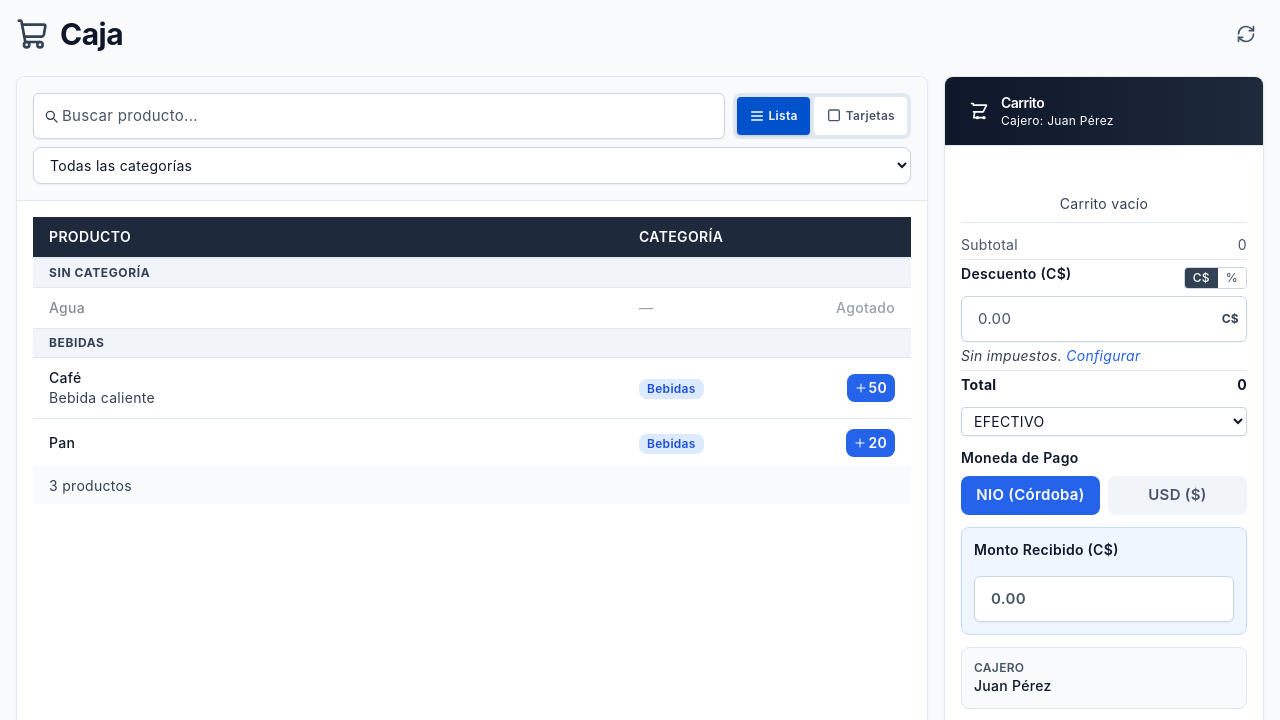
it: POSPage › Cart – adding products › increments quantity when the same product is added twice
The image size is (1280, 720).
Expected: the text "Café" is shown, [49,369,82,386]
Click the button "50".
click(871, 388)  # box [847,374,895,402]
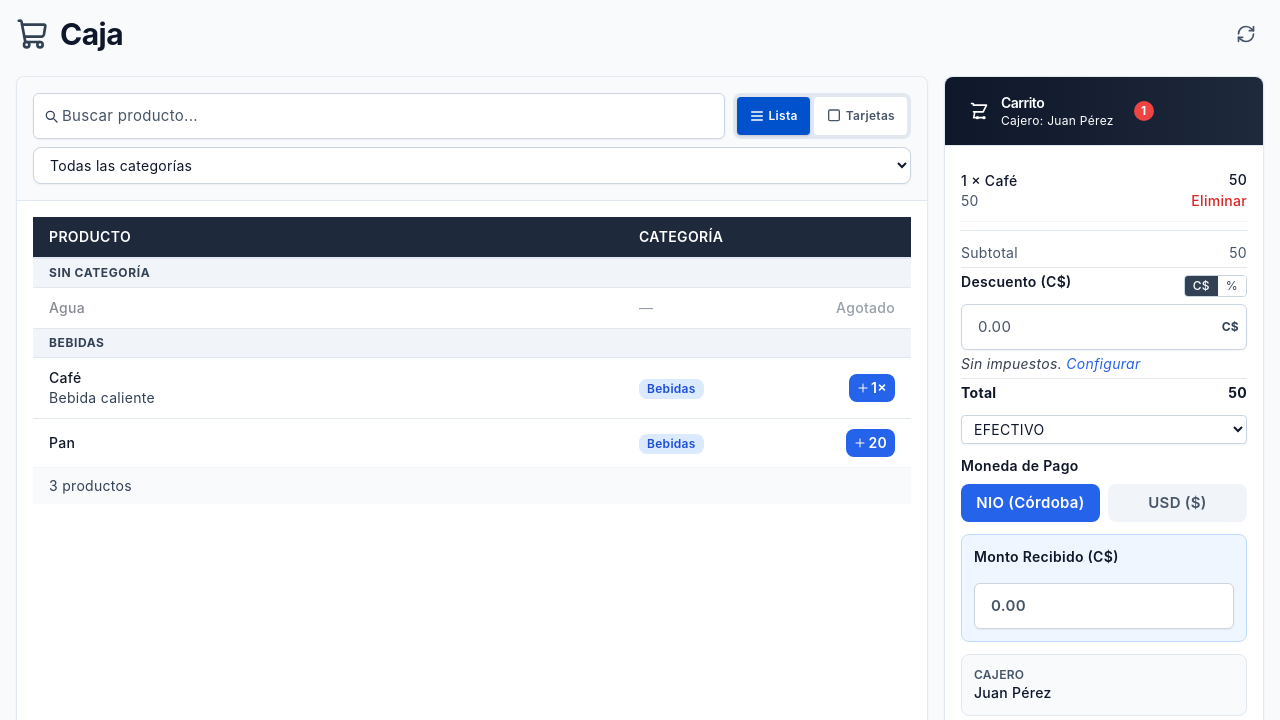
Expected: the text "1 × Café" is shown, [961,171,1017,191]
Click the button named "50".
click(872, 388)  # box [849,374,895,402]
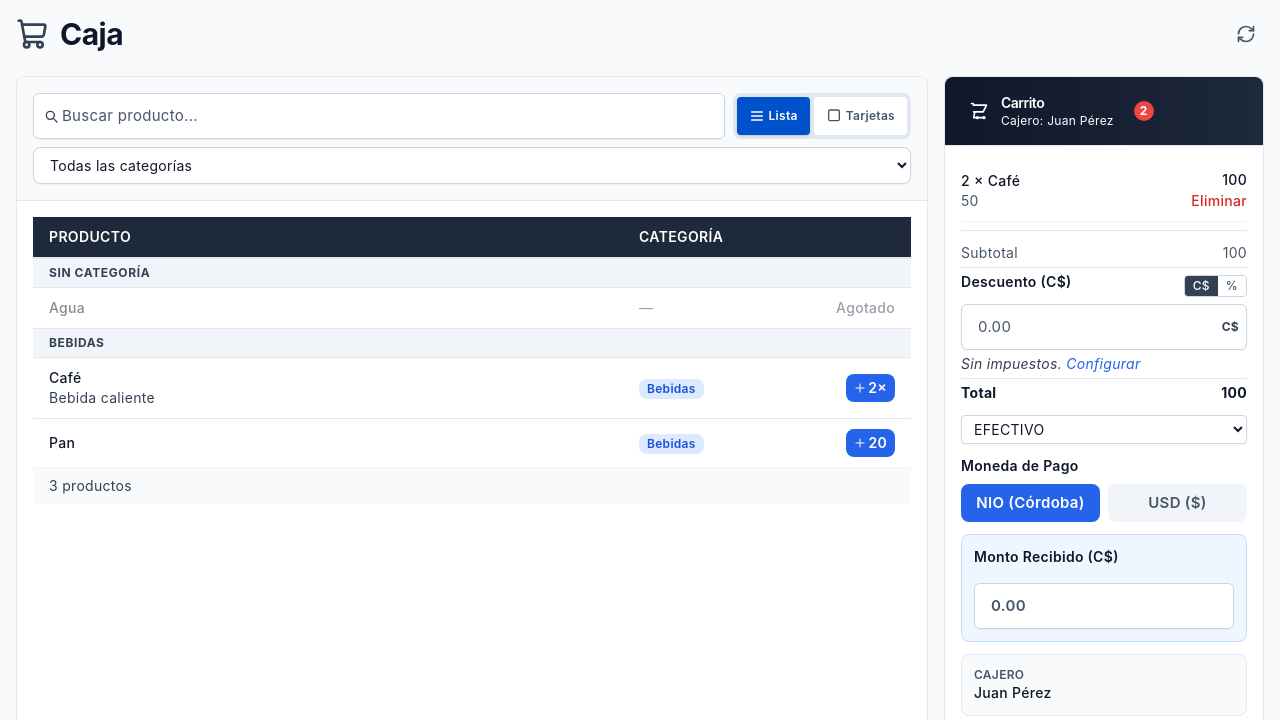
Expected: the text "2 × Café" is shown, [961,171,1020,191]
